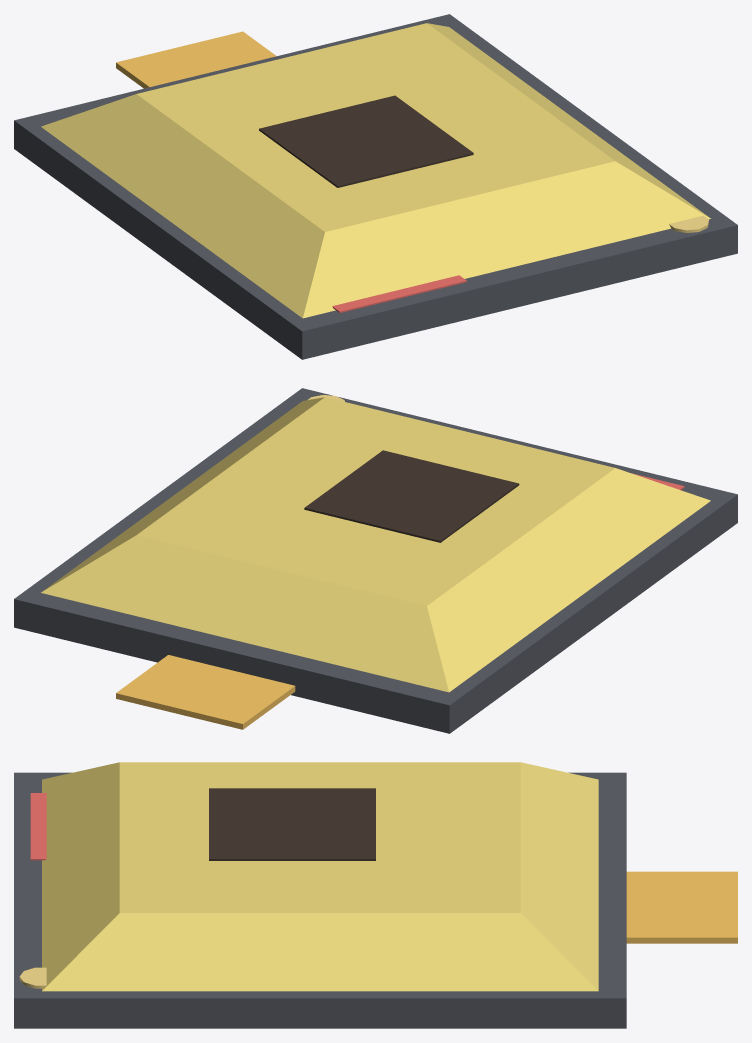
Rendered from phone-battery-bad.glb.
3 renders of one model, top to bottom at view 1: azimuth 30°, elevation 25°; view 2: azimuth 150°, elevation 25°; view 3: azimuth 270°, elevation 25°, orthographic. The views are drawn at different scales.
Parts seen in each view (by area): view 1: battery; view 2: battery; view 3: battery.
Part boxes in pixels (x1,y1,x2,y2): battery: (14,14,737,359); battery: (14,388,737,733); battery: (14,762,737,1028).
Bounding box in the file's own units: 0.096 × 0.0159 × 0.13.
